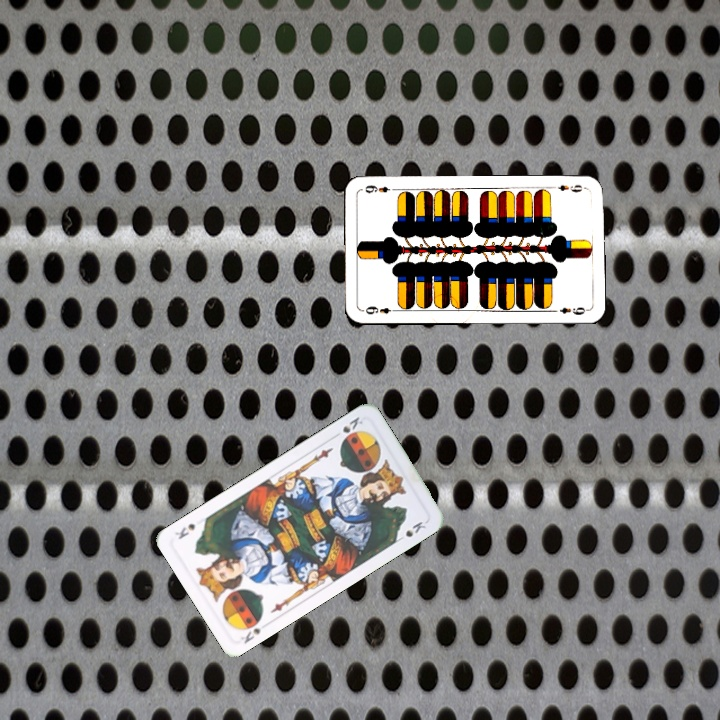E9: (548, 180, 588, 195), (362, 302, 400, 317)
SK: (337, 412, 366, 443), (237, 624, 264, 646)
